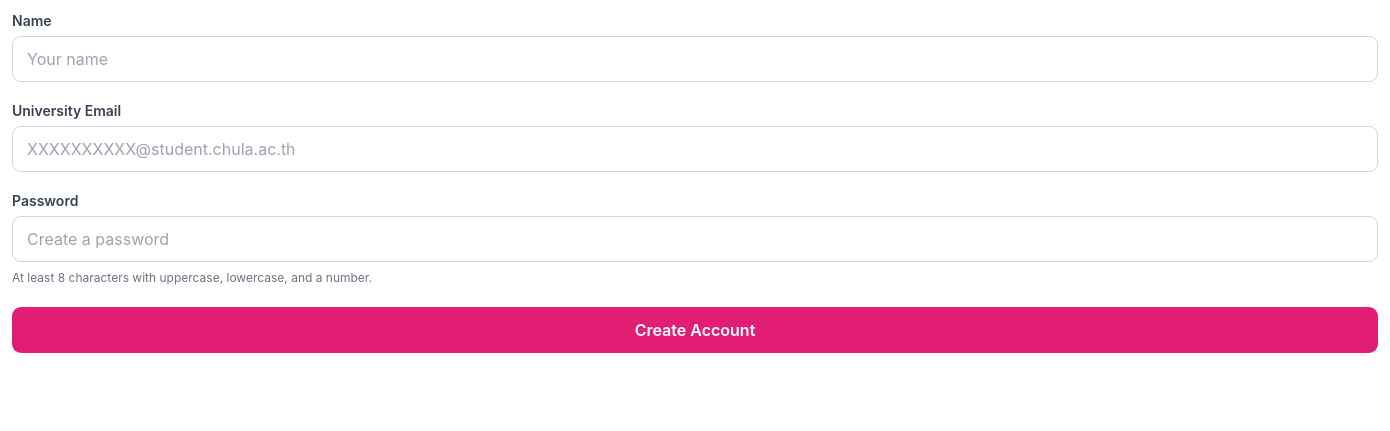
Test: RegisterForm › shows API error when email already exists
Type "Putter" into the field labelled "Name" at (695, 59), box [12, 36, 1378, 82]
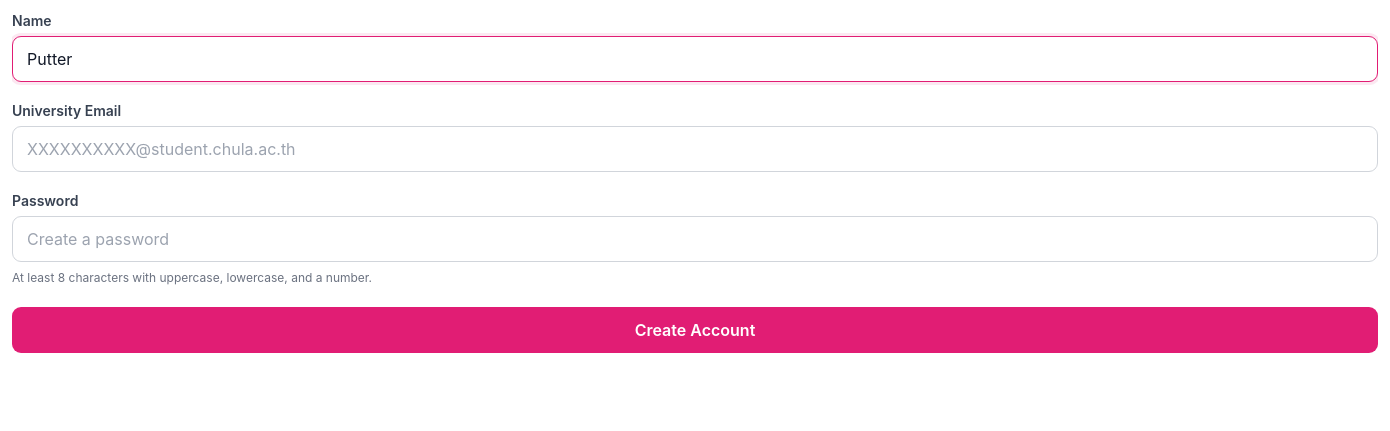
Type "1111111111@student.chula.ac.th" into the field labelled "University Email" at (695, 149), box [12, 126, 1378, 172]
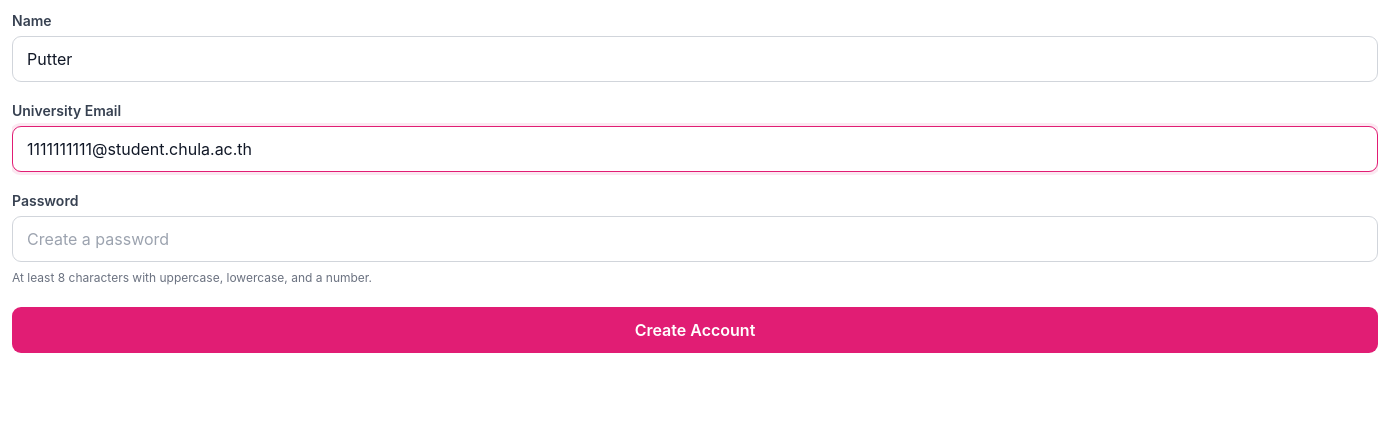
Type "Uniware123" into the password field labelled "Password" at (695, 239), box [12, 216, 1378, 262]
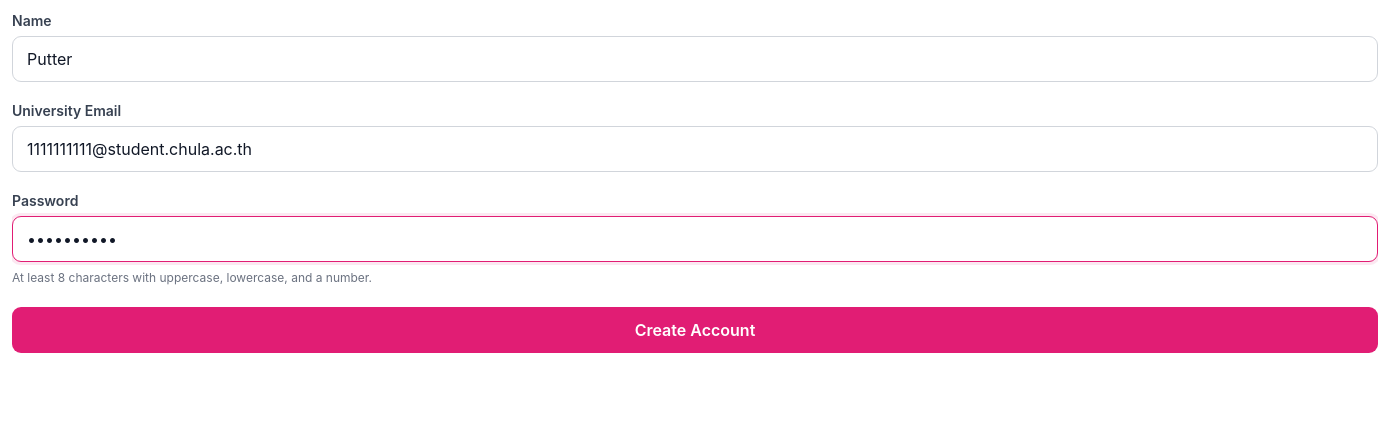
Click the button "Create Account" at (695, 330), box [12, 307, 1378, 353]
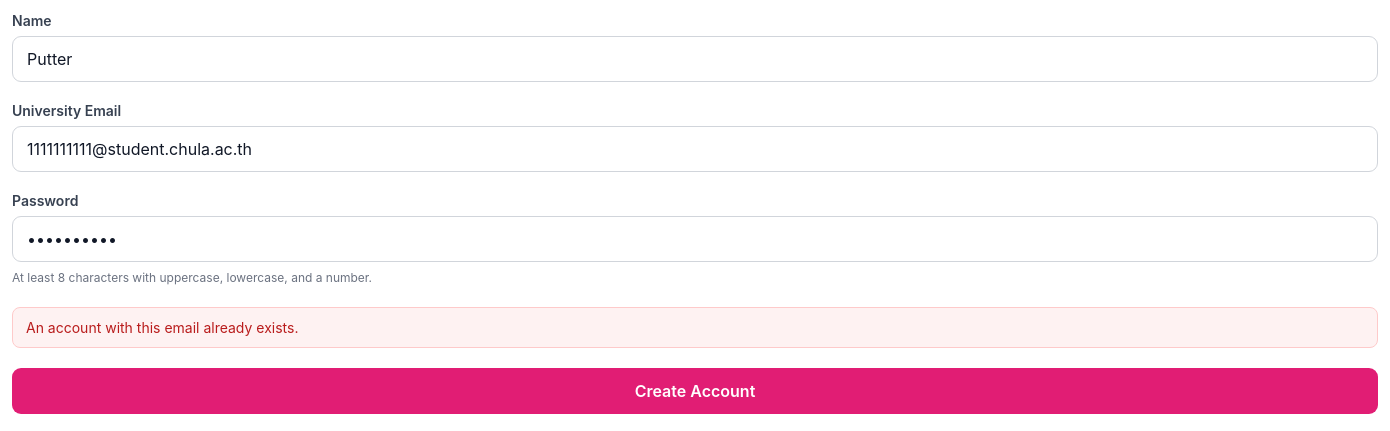
Now the text "An account with this email already exists." is shown, box [12, 307, 1378, 348]
